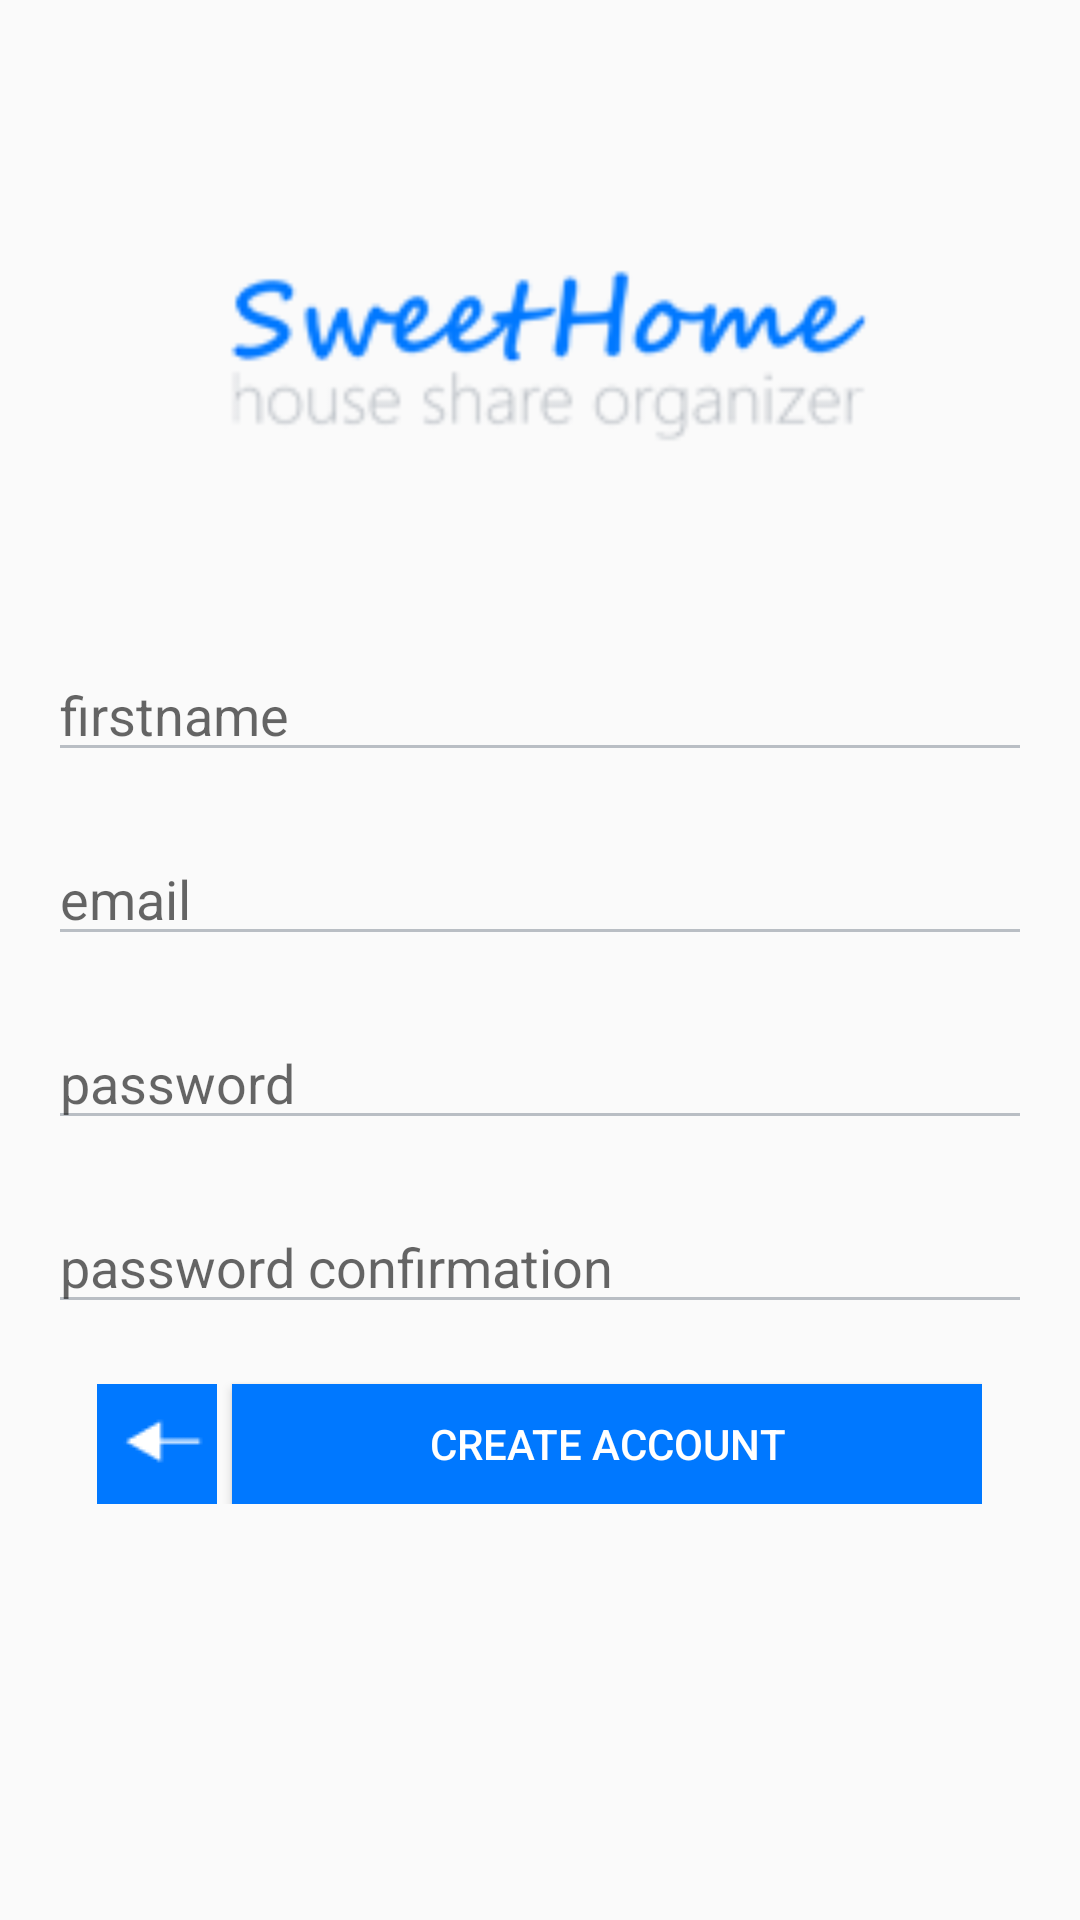

Locate icon controls on the screen. Image size 1080 × 1920, boxes as (x1, y1, x2, y2).
row back: (97, 1384, 217, 1504)
